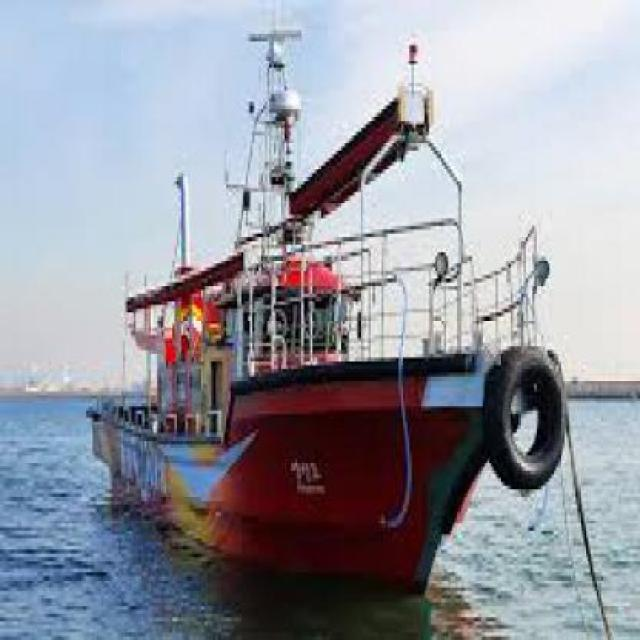fish-b: (81, 1, 584, 615)
